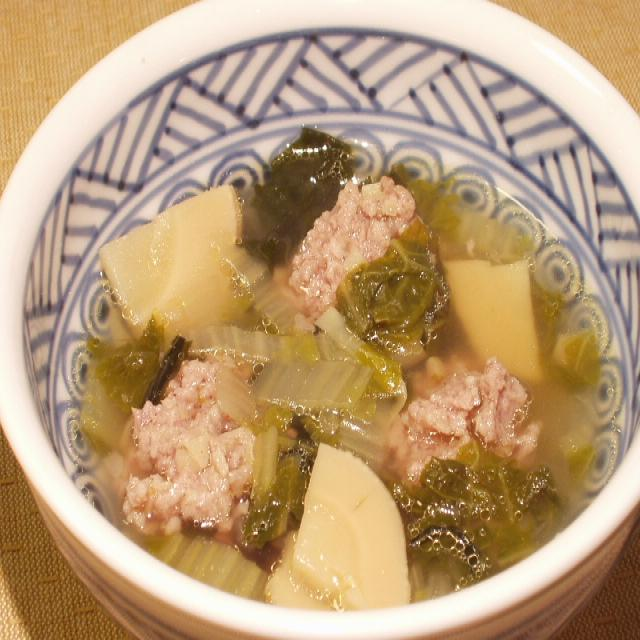汤锅炖物: (16, 9, 640, 500)
